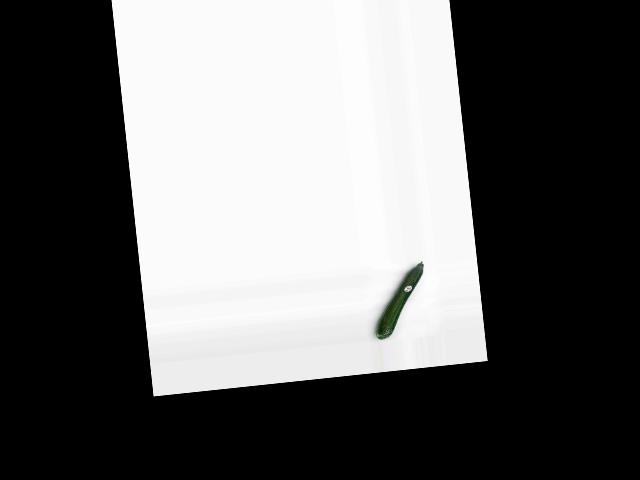cucumber: (369, 260, 430, 339)
